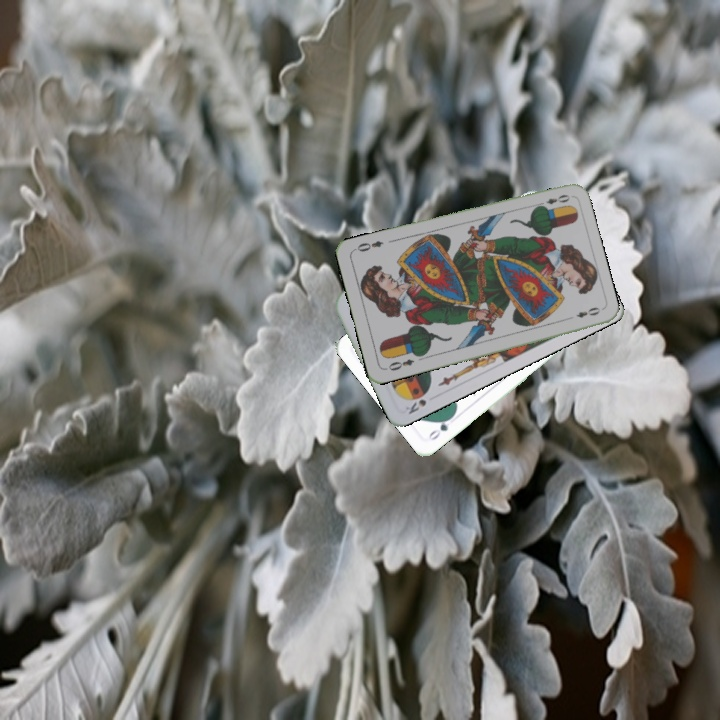EO: (533, 190, 573, 210), (381, 355, 417, 373)
GO: (424, 411, 457, 443)
SK: (401, 395, 429, 417)
